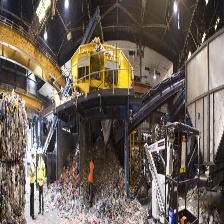helmet: (38, 146, 42, 157), (31, 150, 35, 158)
no-helmet: (91, 155, 93, 162)
person: (37, 148, 47, 215), (28, 150, 37, 221), (88, 154, 94, 208)
vest: (37, 160, 45, 186), (29, 158, 35, 185), (88, 161, 93, 188)
